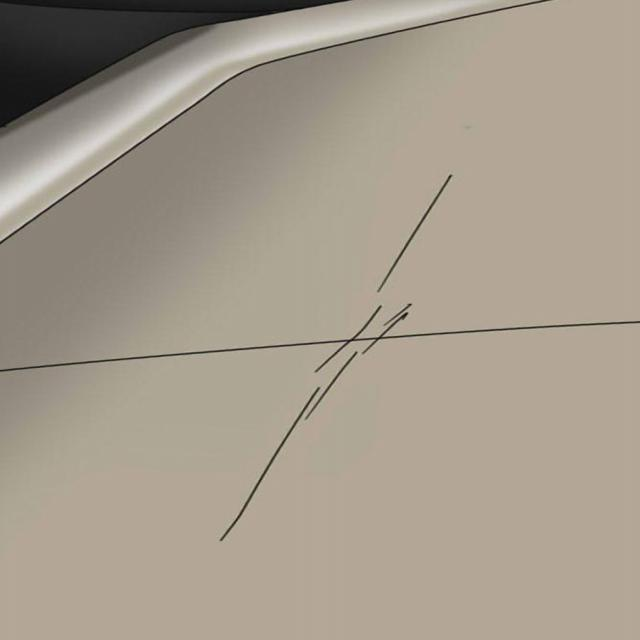scratch: (215, 296, 433, 547), (335, 172, 467, 298)
